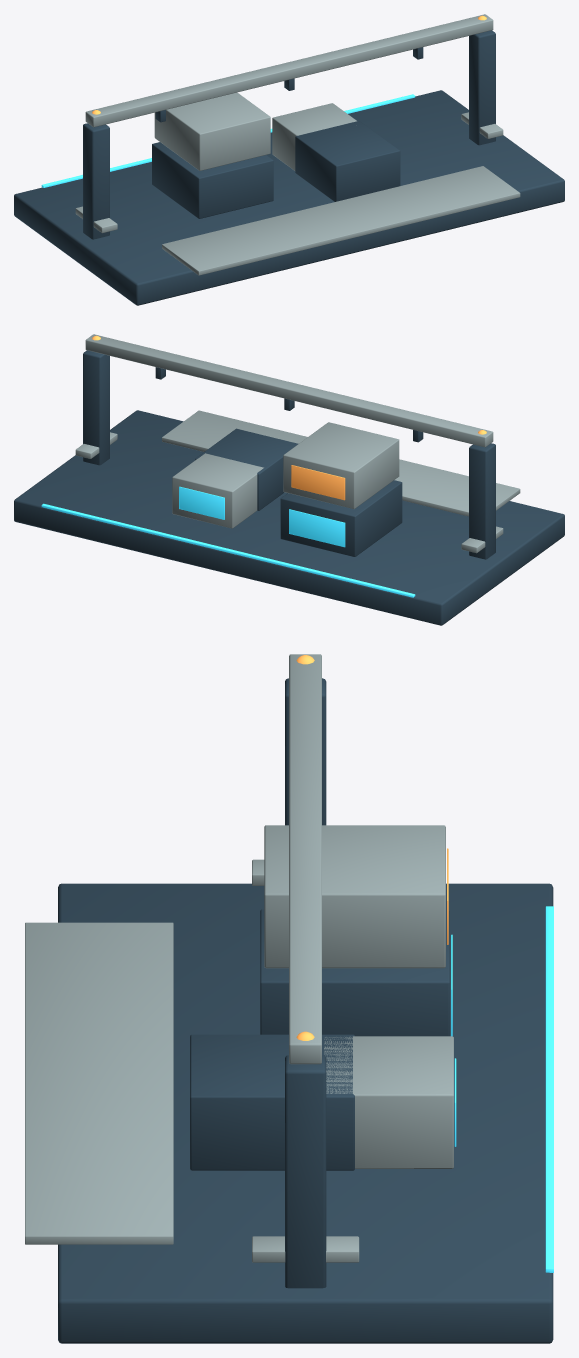
File: orbital-dock.glb
The picture shows the model from 3 angles, top to bottom: view 1: azimuth 30°, elevation 25°; view 2: azimuth 150°, elevation 25°; view 3: azimuth 270°, elevation 25°; orthographic projection. The views are drawn at different scales.
Visible parts, largest first — view 1: dock_platform, dock_walkway, dock_crane_rail, dock_container_1, dock_container_2, dock_container_0, dock_pylon_-1, dock_pylon_1, dock_container_3, dock_status_strip; view 2: dock_platform, dock_crane_rail, dock_container_1, dock_walkway, dock_container_0, dock_container_3, dock_container_2, dock_pylon_-1, dock_pylon_1, dock_status_strip, dock_panel_0, dock_panel_1 (+1 smaller); view 3: dock_platform, dock_walkway, dock_container_1, dock_container_2, dock_container_3, dock_crane_rail, dock_container_0, dock_pylon_1, dock_status_strip, dock_brace_1, dock_pylon_-1.
Part boxes in pixels (<box>): dock_platform: <box>14,90,564,305</box>; dock_walkway: <box>162,166,520,275</box>; dock_crane_rail: <box>85,14,493,127</box>; dock_container_1: <box>154,92,270,170</box>; dock_container_2: <box>295,121,400,201</box>; dock_container_0: <box>152,142,273,218</box>; dock_pylon_-1: <box>83,123,109,239</box>; dock_pylon_1: <box>469,30,495,145</box>; dock_container_3: <box>272,103,356,170</box>; dock_status_strip: <box>41,94,415,187</box>; dock_platform: <box>14,410,564,625</box>; dock_crane_rail: <box>85,334,493,447</box>; dock_container_1: <box>283,422,399,508</box>; dock_walkway: <box>162,410,520,516</box>; dock_container_0: <box>280,480,402,556</box>; dock_container_3: <box>172,453,263,528</box>; dock_container_2: <box>195,428,298,510</box>; dock_pylon_-1: <box>469,443,495,559</box>; dock_pylon_1: <box>83,350,109,465</box>; dock_status_strip: <box>41,503,415,597</box>; dock_panel_0: <box>289,509,345,547</box>; dock_panel_1: <box>291,465,345,500</box>; dock_platform: <box>58,883,553,1343</box>; dock_walkway: <box>25,922,173,1244</box>; dock_container_1: <box>264,825,445,968</box>; dock_container_2: <box>190,1034,354,1170</box>; dock_container_3: <box>324,1036,453,1168</box>; dock_crane_rail: <box>289,654,321,1064</box>; dock_container_0: <box>260,909,449,1036</box>; dock_pylon_1: <box>285,1055,326,1288</box>; dock_status_strip: <box>545,906,553,1272</box>; dock_brace_1: <box>252,1236,359,1262</box>; dock_pylon_-1: <box>285,678,326,825</box>.
Size of the model in its own units: 6 by 1.95 by 3.21.
